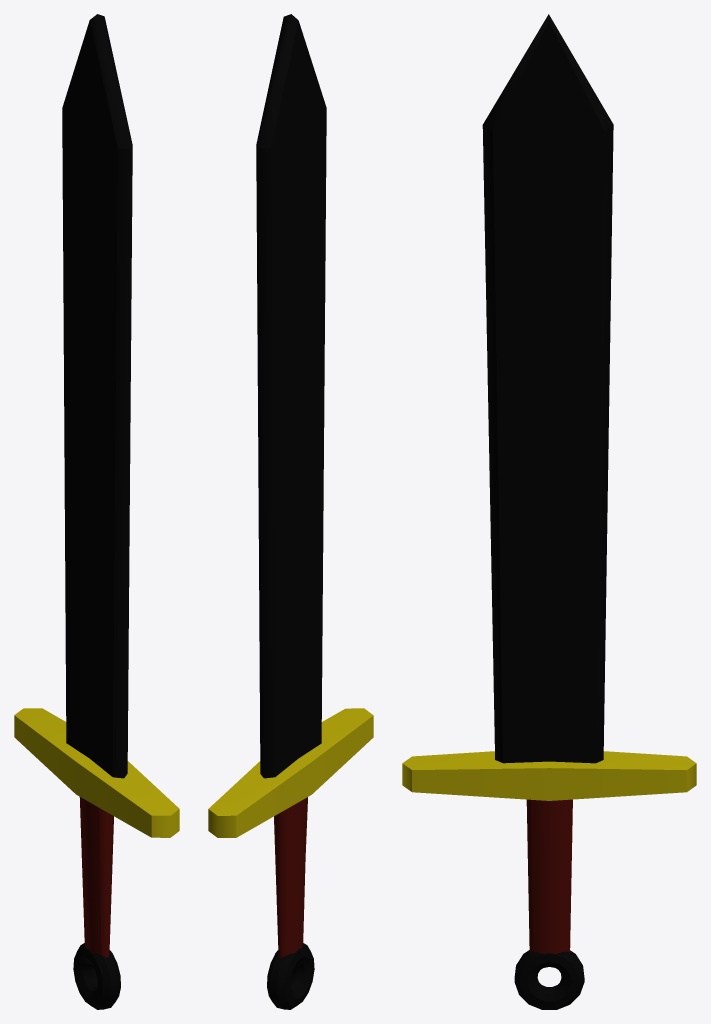
The model's file is Sword.fbx.
3 views of the same model, side by side, from view 1: azimuth 30°, elevation 25°; view 2: azimuth 150°, elevation 25°; view 3: azimuth 270°, elevation 25° (orthographic).
Parts seen in each view (by area): view 1: polySurface3; view 2: polySurface3; view 3: polySurface3.
Boxes of the visible parts, box(x1,y1,x2,y2) form: polySurface3: box(14, 14, 179, 1009); polySurface3: box(208, 14, 373, 1009); polySurface3: box(402, 14, 696, 1009).
Bounding box in the file's own units: 0.6993 × 15.87 × 4.26.
